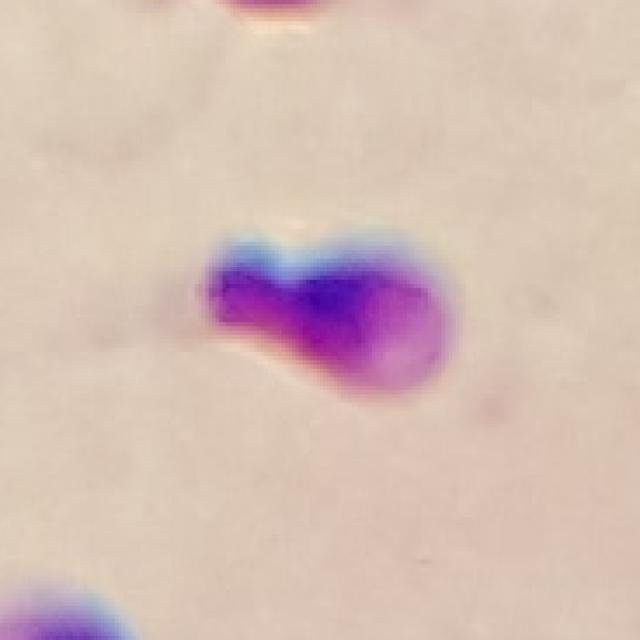abnormal sperm: (195, 230, 458, 404)
